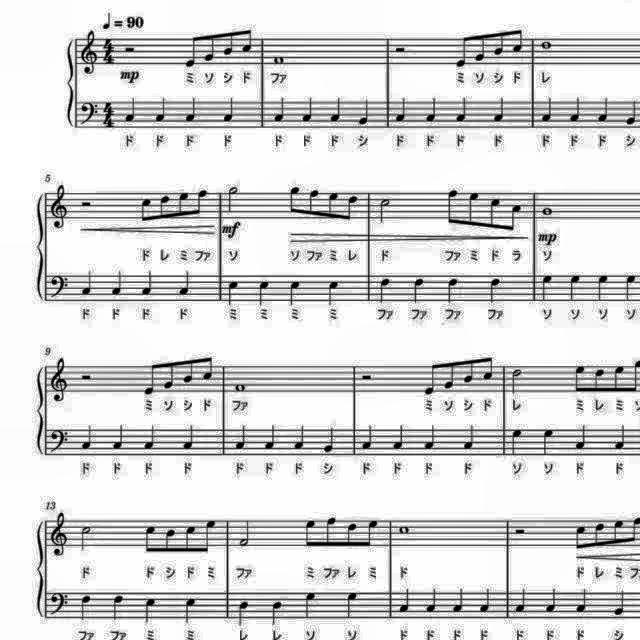Bass-clef: (47, 271, 71, 301), (47, 428, 71, 457), (48, 589, 70, 619), (77, 98, 99, 126)
Eighth-note: (140, 356, 160, 396), (180, 31, 200, 69), (420, 359, 440, 397), (441, 187, 459, 229), (486, 194, 504, 234), (201, 516, 219, 556), (464, 188, 481, 230), (451, 33, 469, 71), (140, 522, 158, 558), (302, 516, 320, 550), (508, 201, 526, 235), (180, 354, 197, 388), (182, 520, 198, 556), (322, 514, 338, 550), (570, 524, 588, 556), (136, 194, 154, 226), (286, 184, 302, 220), (162, 358, 178, 394), (442, 359, 458, 393), (474, 30, 490, 64), (202, 30, 218, 64), (363, 517, 379, 551), (344, 192, 361, 224), (570, 361, 586, 394), (324, 190, 340, 222), (220, 26, 236, 58), (460, 356, 476, 388), (491, 26, 507, 58), (592, 518, 608, 550), (480, 350, 496, 382), (200, 350, 216, 382), (306, 188, 322, 220), (158, 192, 174, 224), (174, 188, 190, 220), (192, 186, 208, 218), (613, 361, 629, 393), (344, 519, 360, 549), (592, 366, 608, 396), (240, 25, 256, 55), (612, 516, 626, 548), (162, 526, 176, 558), (512, 23, 526, 54), (631, 356, 640, 396), (631, 514, 640, 546), (639, 356, 640, 396), (639, 514, 640, 546)
Full-note: (396, 522, 412, 538), (233, 380, 251, 394), (538, 205, 554, 219), (537, 38, 553, 52), (272, 53, 288, 67)
Half-note: (76, 521, 95, 553), (376, 194, 394, 226), (223, 182, 241, 214), (237, 516, 255, 548), (509, 366, 526, 398)
Half-rest: (121, 39, 139, 57), (78, 195, 94, 212), (78, 372, 98, 384), (513, 524, 529, 538), (392, 41, 408, 55), (360, 372, 376, 384)
Quarter-note: (180, 596, 200, 628), (182, 422, 202, 452), (622, 271, 640, 303), (109, 590, 127, 622), (486, 274, 504, 306), (376, 274, 394, 306), (302, 588, 320, 620), (343, 588, 361, 620), (537, 272, 555, 304), (219, 94, 237, 126), (538, 427, 556, 459), (490, 96, 508, 128), (76, 590, 94, 622), (233, 422, 251, 453), (509, 426, 526, 458), (319, 424, 336, 456), (444, 275, 462, 305), (565, 272, 583, 302), (410, 274, 428, 304), (141, 596, 159, 626), (422, 95, 440, 125), (328, 95, 346, 125), (612, 587, 630, 617), (225, 277, 243, 307), (255, 278, 273, 308), (460, 423, 478, 453), (262, 423, 280, 453), (358, 423, 376, 452), (624, 96, 640, 128), (78, 268, 94, 300), (180, 269, 197, 299), (454, 95, 471, 125), (324, 277, 341, 307), (389, 423, 406, 453), (138, 270, 156, 298), (356, 95, 372, 126), (272, 94, 288, 124), (124, 97, 140, 127), (594, 272, 610, 302), (396, 585, 412, 615), (422, 423, 438, 453), (154, 94, 170, 124), (392, 94, 408, 124), (109, 269, 125, 299), (478, 585, 494, 615), (142, 423, 158, 453), (236, 599, 252, 629), (566, 94, 582, 124), (572, 422, 588, 452), (614, 423, 630, 453), (290, 423, 306, 453), (110, 421, 126, 451), (594, 93, 610, 123), (78, 421, 94, 451), (450, 585, 466, 615), (182, 96, 198, 124), (540, 94, 556, 122), (286, 278, 302, 306), (573, 586, 589, 614), (298, 94, 314, 122), (542, 586, 558, 614), (424, 586, 440, 614), (514, 586, 530, 614), (270, 598, 286, 626)
Treble-clef: (50, 354, 74, 404), (49, 184, 73, 233), (51, 511, 74, 561), (78, 27, 100, 77)
